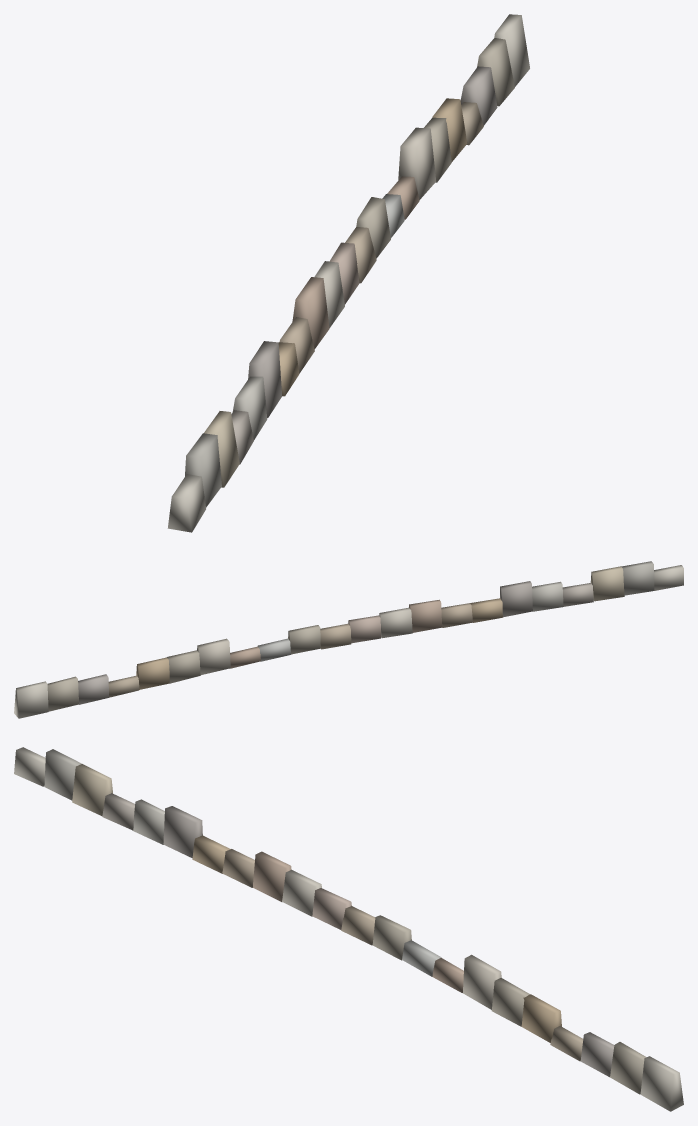
The model's file is farm_-30_-22_far.glb.
The picture shows the model from 3 angles, top to bottom: view 1: azimuth 30°, elevation 25°; view 2: azimuth 150°, elevation 25°; view 3: azimuth 270°, elevation 25°; orthographic projection. The views are drawn at different scales.
Visible parts, largest first — view 1: geometry_0; view 2: geometry_0; view 3: geometry_0.
Part boxes in pixels (x1,y1,x2,y2): geometry_0: (167,14,529,532); geometry_0: (14,561,683,718); geometry_0: (14,747,683,1111).
Bounding box in the file's own units: 24.83 × 4.28 × 25.65.
